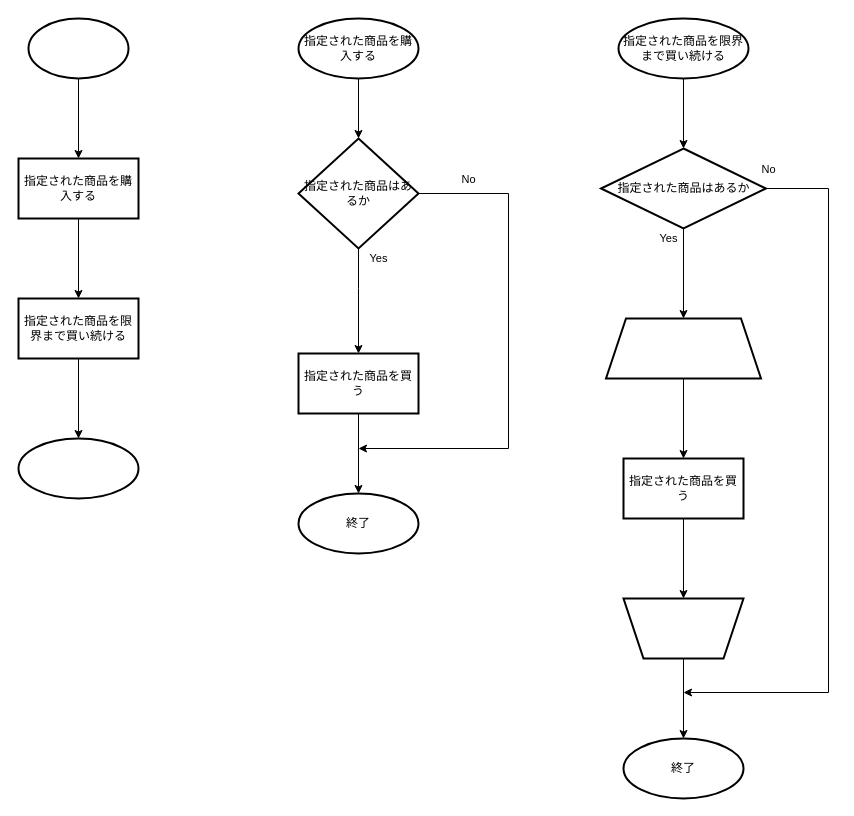
The diagram is 854 pixels wide and 816 high, and some of its shapes have lost their labels. The shapes that lost their labels are listed below. From the top down, each one's centre as x and y in pixels, then its label:
At [78,48]: "おつかいに行く".
At [683,348]: "金額が120円以上の時".
At [78,468]: "おつかい終了".
